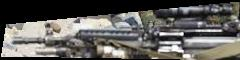gun: (1, 1, 240, 60)
